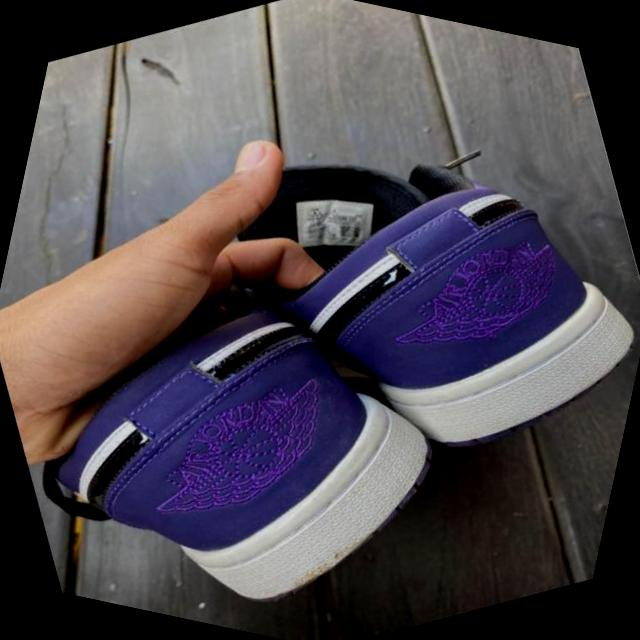nike_fake_jordan: (0, 187, 521, 640), (258, 91, 640, 520)
